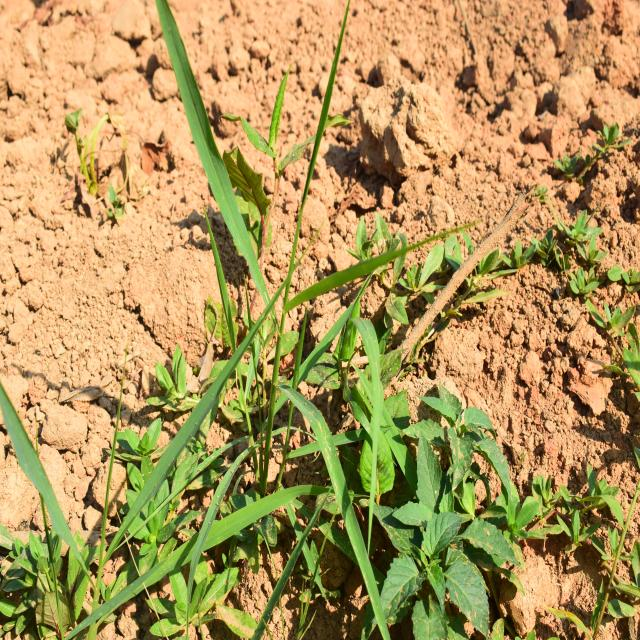green_foxtail: (156, 36, 391, 560)
